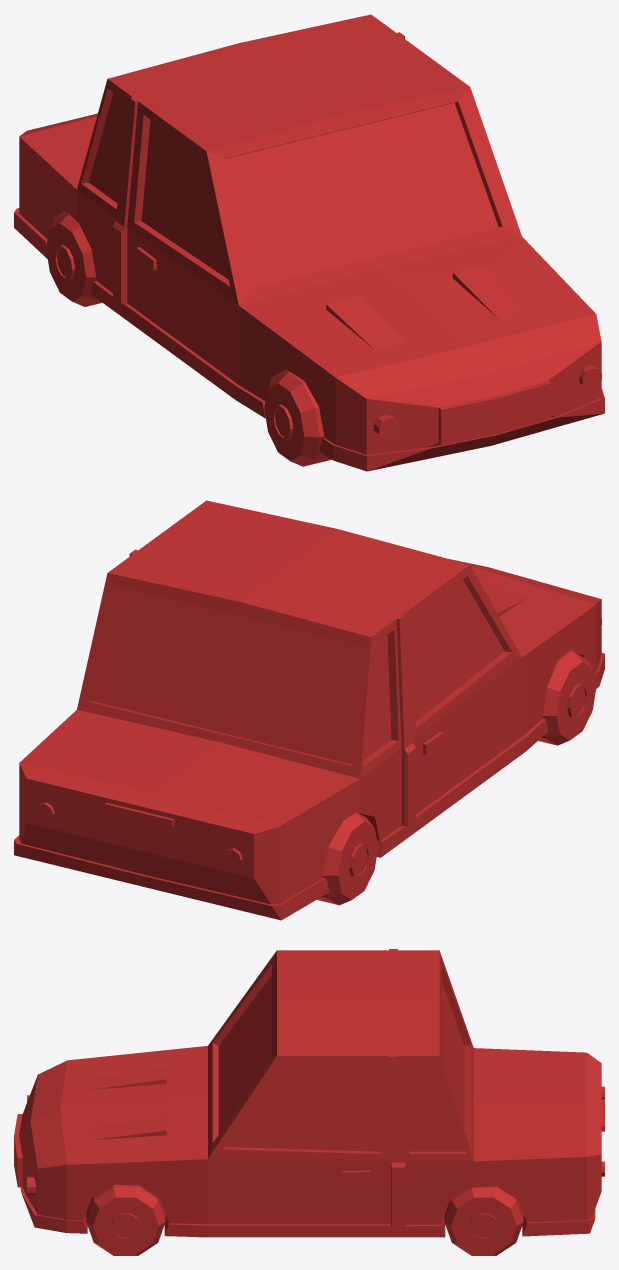
Rendered from sedan.glb.
3 views of the same model, one above another, from view 1: azimuth 30°, elevation 25°; view 2: azimuth 150°, elevation 25°; view 3: azimuth 270°, elevation 25° (orthographic). The views are drawn at different scales.
Parts seen in each view (by area): view 1: Car, FrontWheels, BackWheels; view 2: Car, FrontWheels, BackWheels; view 3: Car, FrontWheels, BackWheels.
Part boxes in pixels (x1=…): Car: x1=14, y1=14, x2=604, y2=471; FrontWheels: x1=264, y1=372, x2=331, y2=466; BackWheels: x1=46, y1=214, x2=102, y2=306; Car: x1=14, y1=500, x2=604, y2=920; FrontWheels: x1=538, y1=650, x2=596, y2=745; BackWheels: x1=317, y1=812, x2=378, y2=905; Car: x1=14, y1=949, x2=604, y2=1237; FrontWheels: x1=86, y1=1184, x2=165, y2=1255; BackWheels: x1=444, y1=1186, x2=523, y2=1255.
Size of the model in its own units: 201 by 158 by 420.
